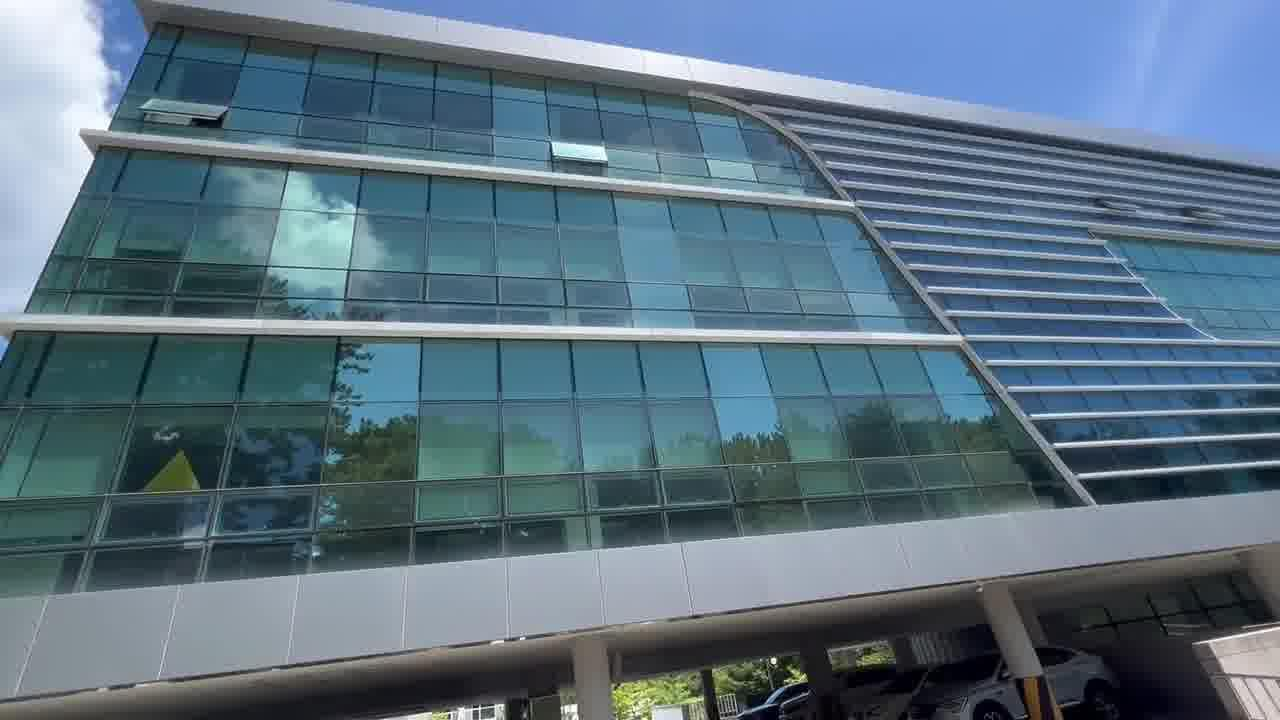building: (27, 20, 1280, 661)
